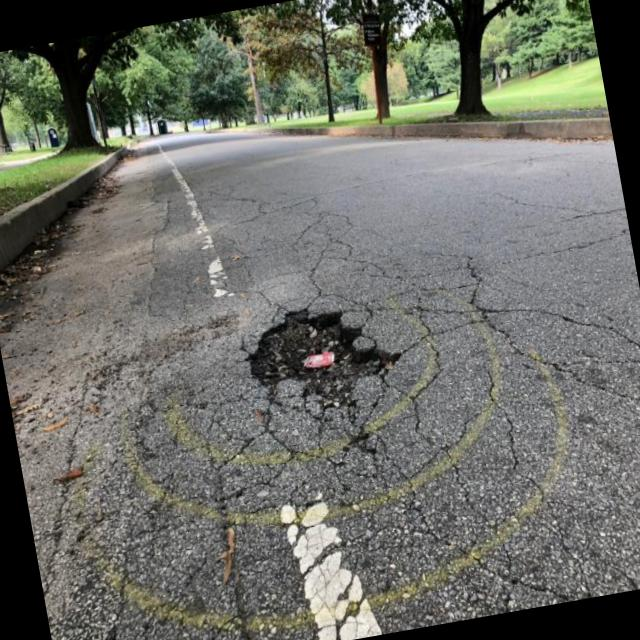Potholes: (217, 267, 421, 441)
